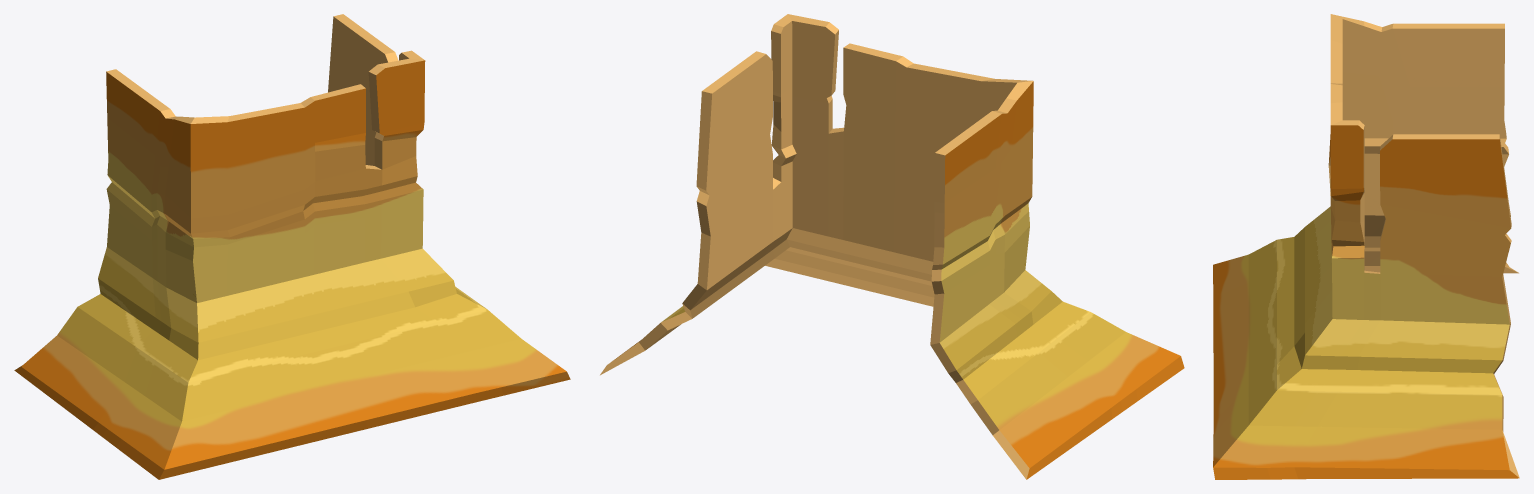
Rendered from MonumentValley_003.fbx.
3 views of the same model, side by side, from view 1: azimuth 30°, elevation 25°; view 2: azimuth 150°, elevation 25°; view 3: azimuth 270°, elevation 25° (orthographic). The views are drawn at different scales.
Parts seen in each view (by area): view 1: Cube; view 2: Cube; view 3: Cube.
Boxes of the visible parts, left/top/right/bottom form: Cube: left=14, top=14, right=570, bottom=479; Cube: left=600, top=14, right=1184, bottom=479; Cube: left=1213, top=14, right=1519, bottom=479.
Bounding box in the file's own units: 8.34 × 5.84 × 5.21.
2 materials, 1 textured.
